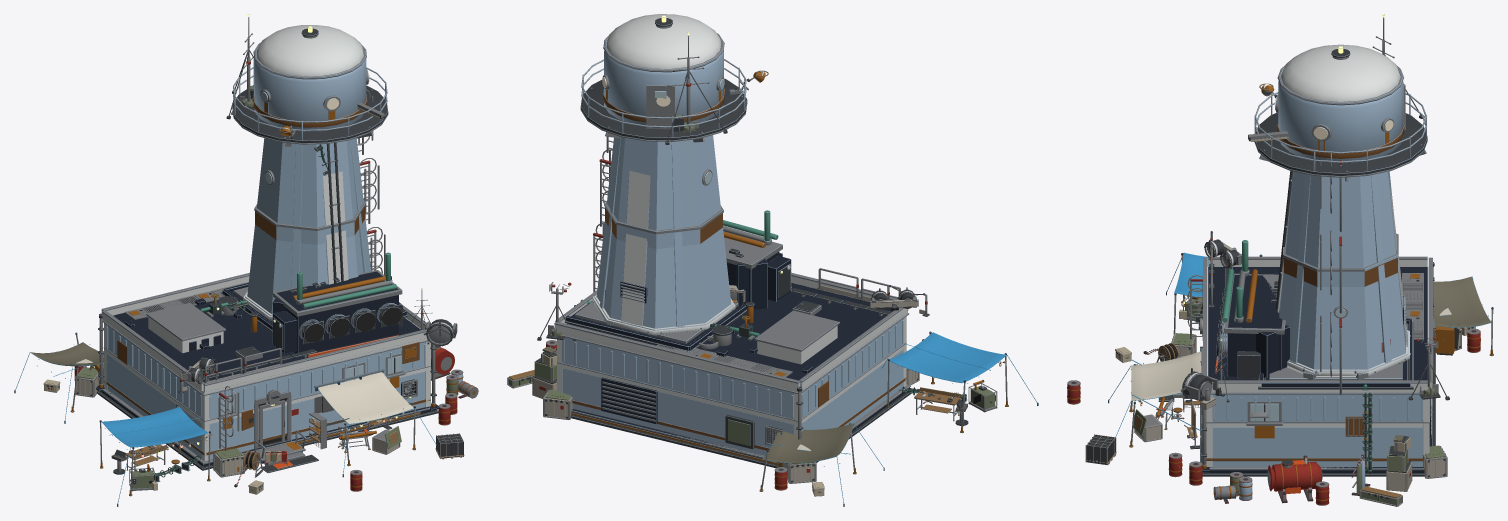
Rendered from relay_outpost.fbx.
3 views of the same model, side by side, from view 1: azimuth 30°, elevation 25°; view 2: azimuth 150°, elevation 25°; view 3: azimuth 270°, elevation 25° (orthographic). The views are drawn at different scales.
Visible parts, largest first — view 1: Outpost_Block, Outpost_Mast, Outpost_Cupola, Mesh_Outpost_PlantRack, Yard_Awning_Wall, Yard_Awning_Azure, Yard_Awning_Store, Mesh_Outpost_Stoop, Roof_LadderStep, Roof_Flood_East, Mast_Ladder_1, Yard_Pallet (+11 smaller); view 2: Outpost_Block, Outpost_Mast, Outpost_Cupola, Mesh_Outpost_PlantRack, Yard_Awning_Azure, Yard_Awning_Store, Mesh_Outpost_TowerSaddle, Yard_CrateStack, Mast_Aerial_Main, Yard_Bench, Yard_CrateLarge, Roof_Flood_West (+2 smaller); view 3: Outpost_Block, Outpost_Mast, Outpost_Cupola, Mesh_Outpost_PlantRack, Mesh_Outpost_TowerSaddle, Yard_Awning_Wall, Yard_Awning_Store, Yard_Tank, Yard_CrateStack, Yard_Awning_Azure, Roof_Flood_East, Yard_DrumStack (+10 smaller).
Part boxes in pixels (<box>): Outpost_Block: <box>96,273,438,470</box>; Outpost_Mast: <box>243,138,371,320</box>; Outpost_Cupola: <box>231,25,388,146</box>; Mesh_Outpost_PlantRack: <box>272,252,402,357</box>; Yard_Awning_Wall: <box>314,369,436,477</box>; Yard_Awning_Azure: <box>99,404,210,506</box>; Yard_Awning_Store: <box>14,332,108,423</box>; Mesh_Outpost_Stoop: <box>254,430,318,473</box>; Roof_LadderStep: <box>213,448,244,477</box>; Roof_Flood_East: <box>423,319,457,346</box>; Mast_Ladder_1: <box>359,158,379,223</box>; Yard_Pallet: <box>435,433,464,459</box>; Outpost_Block: <box>554,272,913,468</box>; Outpost_Mast: <box>592,135,735,335</box>; Outpost_Cupola: <box>580,14,747,142</box>; Mesh_Outpost_PlantRack: <box>723,210,791,309</box>; Yard_Awning_Azure: <box>881,331,1038,433</box>; Yard_Awning_Store: <box>759,423,884,506</box>; Mesh_Outpost_TowerSaddle: <box>565,293,746,351</box>; Yard_CrateStack: <box>532,347,556,398</box>; Mast_Aerial_Main: <box>665,32,727,144</box>; Yard_Bench: <box>914,387,961,421</box>; Yard_CrateLarge: <box>543,389,572,419</box>; Roof_Flood_West: <box>870,287,918,310</box>; Outpost_Block: <box>1198,256,1435,476</box>; Outpost_Mast: <box>1275,171,1410,376</box>; Outpost_Cupola: <box>1254,44,1427,181</box>; Mesh_Outpost_PlantRack: <box>1215,240,1289,378</box>; Mesh_Outpost_TowerSaddle: <box>1258,318,1413,389</box>; Yard_Awning_Wall: <box>1108,348,1202,447</box>; Yard_Awning_Store: <box>1433,276,1493,355</box>; Yard_Tank: <box>1267,455,1322,503</box>; Yard_CrateStack: <box>1386,435,1412,491</box>; Yard_Awning_Azure: <box>1166,252,1262,334</box>; Roof_Flood_East: <box>1180,368,1218,409</box>; Yard_DrumStack: <box>1213,472,1252,503</box>.
Size of the model in its own units: 2225 by 1977 by 1888.
